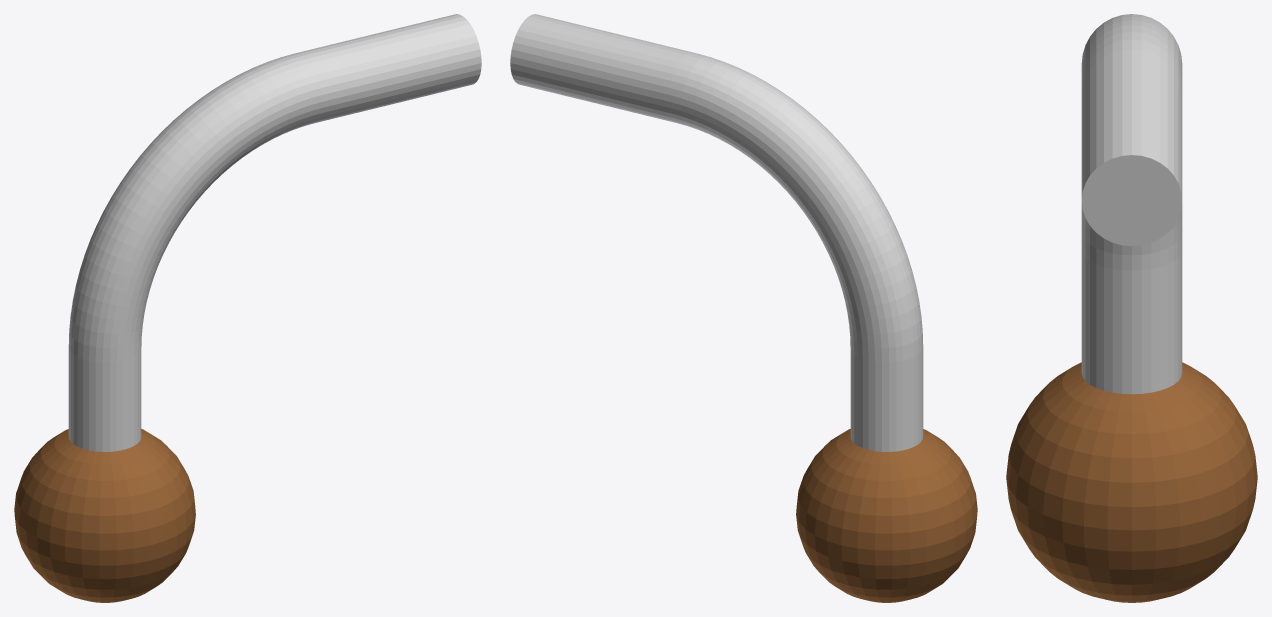
Rendered from Printer-hand-bottom.glb.
3 renders of one model, left to right at view 1: azimuth 30°, elevation 25°; view 2: azimuth 150°, elevation 25°; view 3: azimuth 270°, elevation 25°, orthographic. The views are drawn at different scales.
Parts seen in each view (by area): view 1: HandBottom; view 2: HandBottom; view 3: HandBottom.
Boxes of the visible parts, x1,y1,x2,y2 form: HandBottom: (14,14,481,602); HandBottom: (510,14,977,602); HandBottom: (1006,14,1257,602).
Bounding box in the file's own units: 0.5546 × 0.5946 × 0.2.
